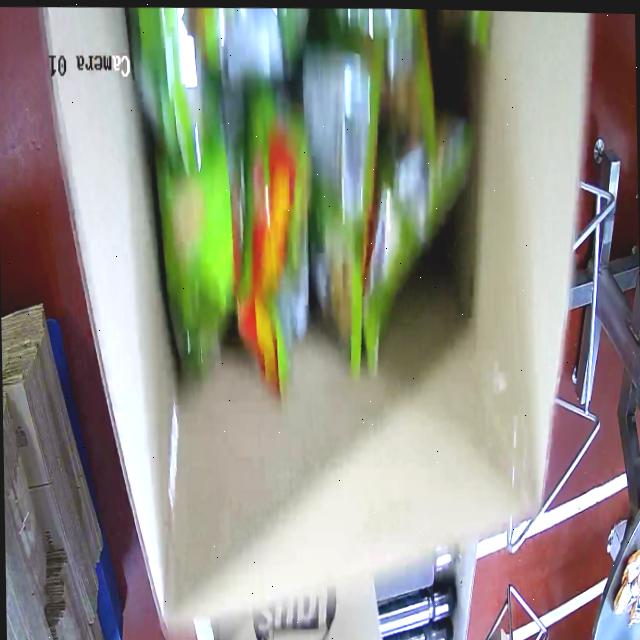YOGURT_HERB: (131, 3, 478, 362)
